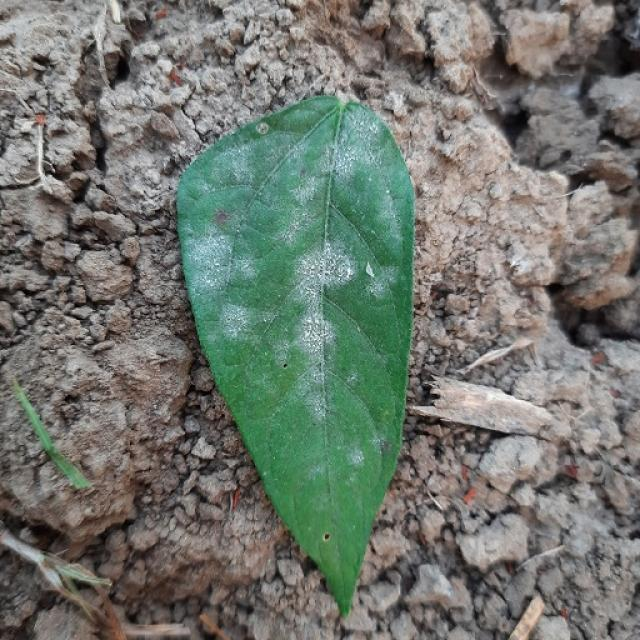Blackgram: (178, 98, 412, 612)
Powdery_Mildew: (204, 138, 390, 425), (274, 248, 363, 402), (203, 179, 318, 283), (232, 321, 335, 437), (325, 117, 393, 201), (288, 236, 358, 298), (190, 226, 244, 293), (217, 294, 265, 345), (219, 299, 255, 340), (347, 447, 365, 467), (262, 471, 267, 477)
